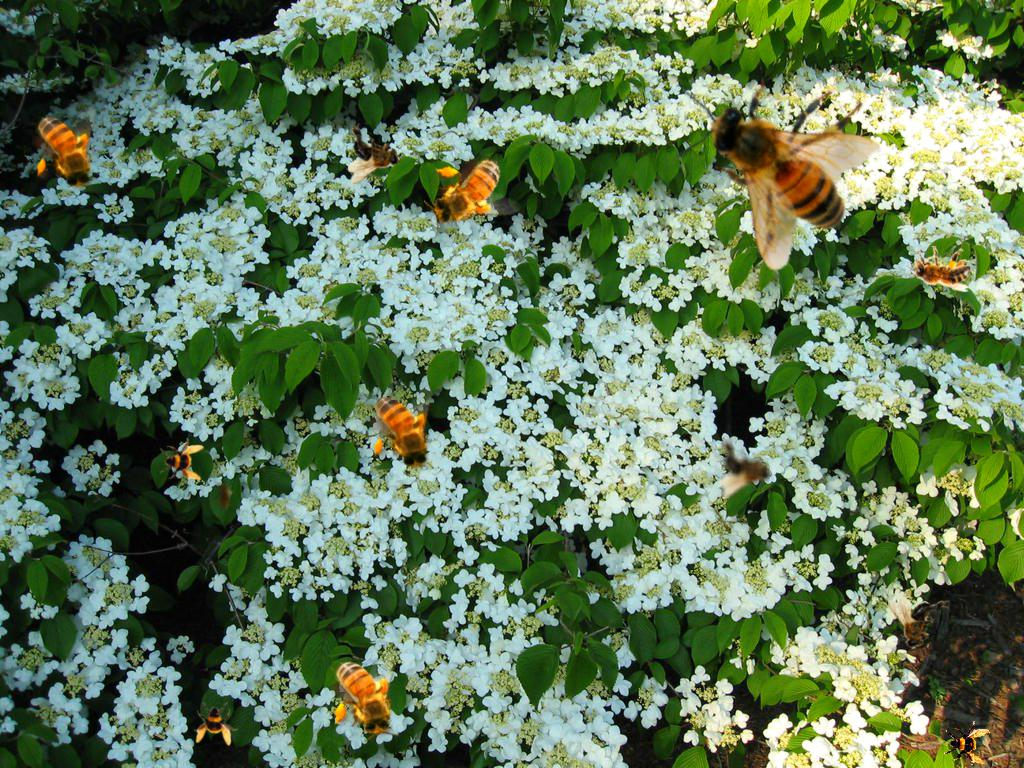Bee: (653, 35, 906, 291), (417, 149, 523, 236), (369, 383, 437, 476), (331, 649, 399, 742), (32, 103, 100, 196), (904, 244, 972, 293), (719, 437, 772, 499), (888, 597, 950, 650), (348, 122, 401, 184), (943, 719, 991, 767), (194, 702, 238, 746), (160, 438, 204, 482), (212, 477, 234, 517)
